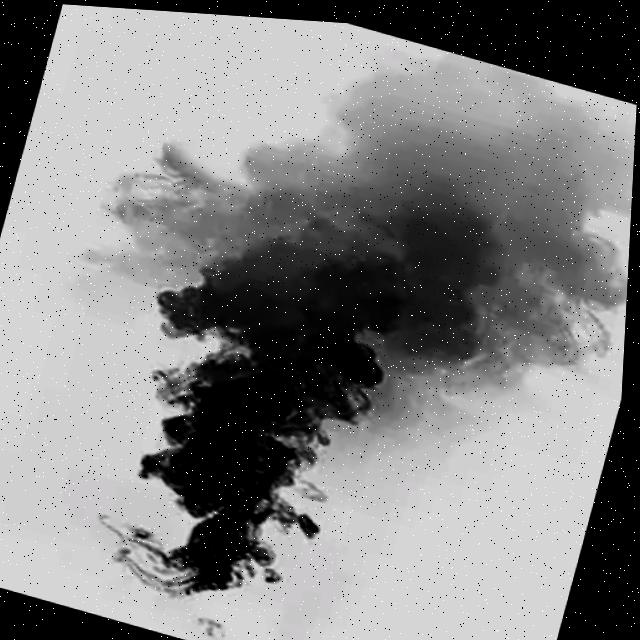Smoke: (15, 2, 640, 640)
